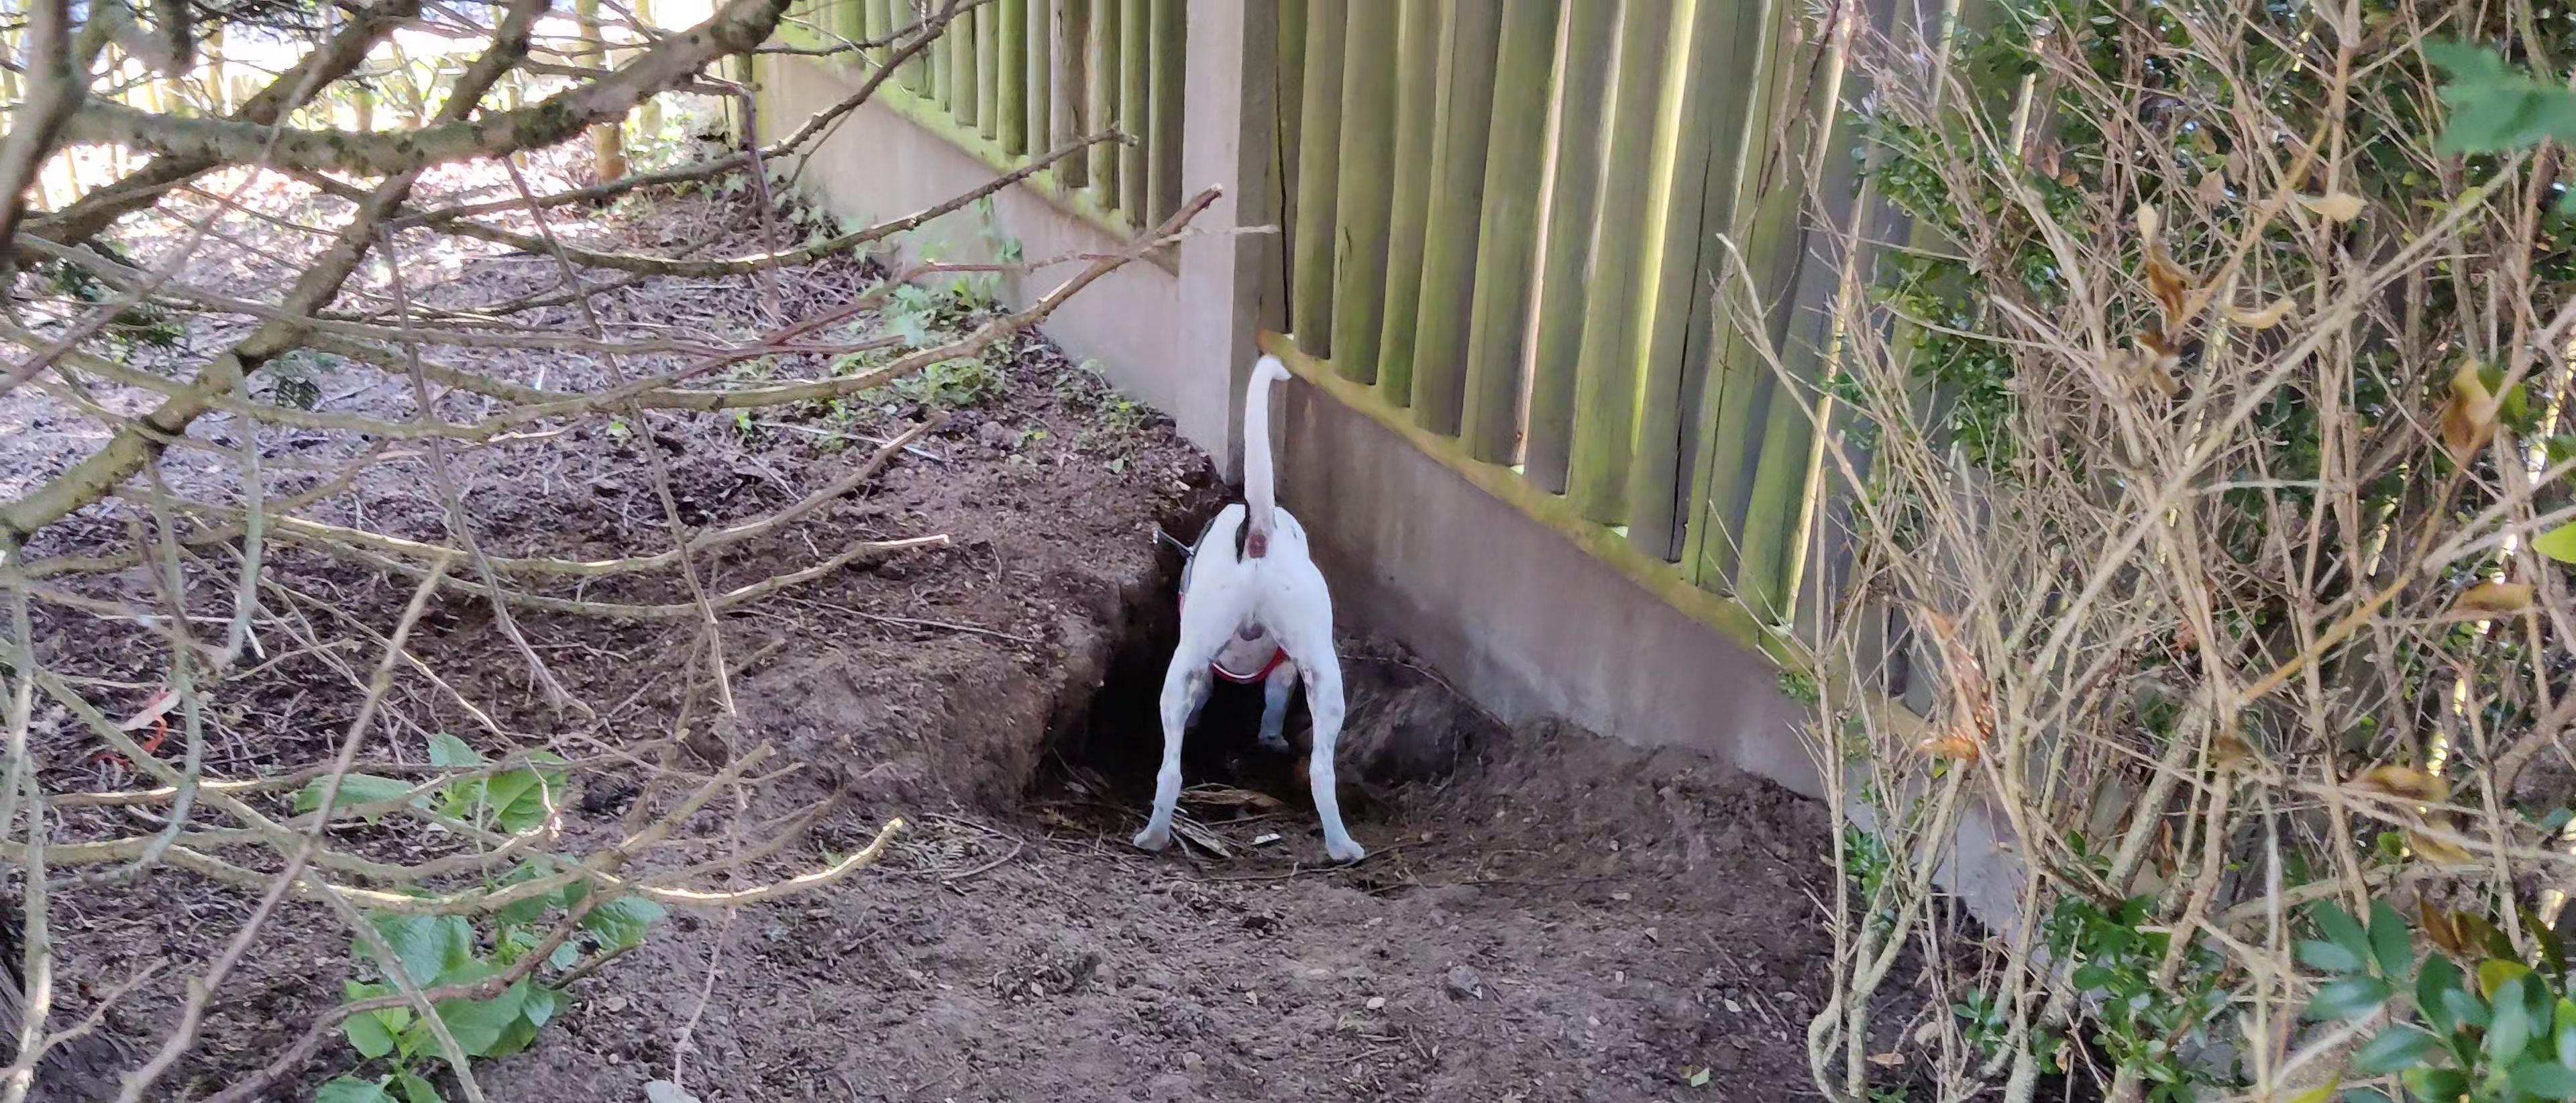Dog: (1097, 339, 1410, 870)
